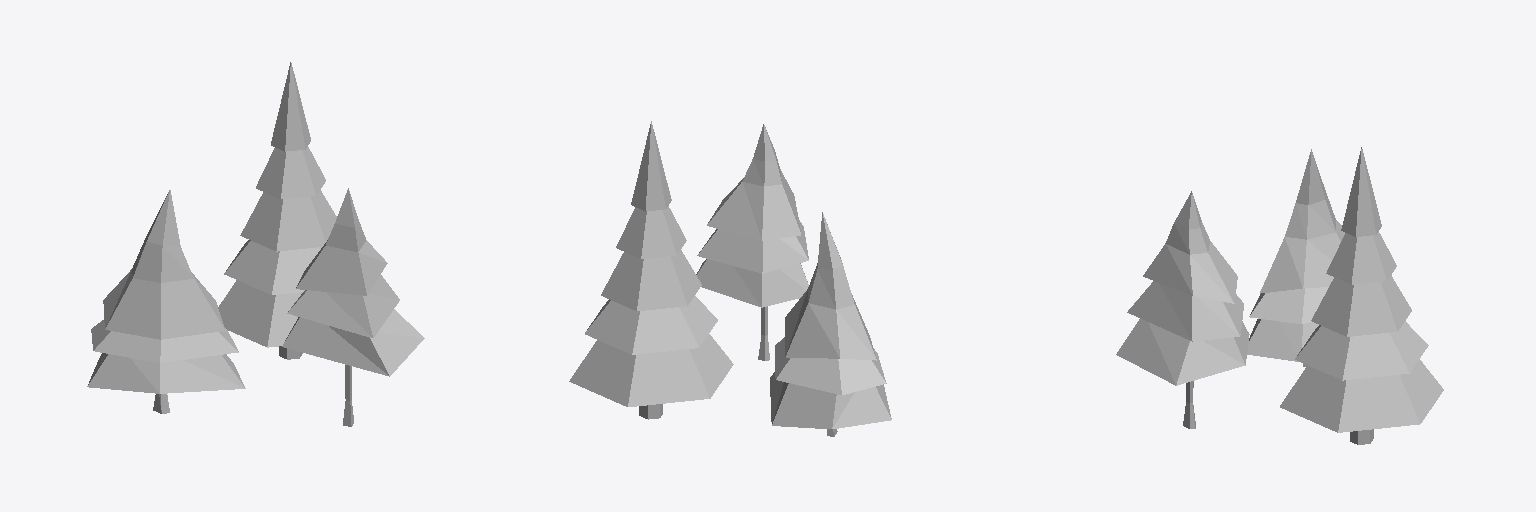
Rendered from trees.obj.
The picture shows the model from 3 angles: view 1: azimuth 30°, elevation 25°; view 2: azimuth 150°, elevation 25°; view 3: azimuth 270°, elevation 25°; orthographic projection.
Parts seen in each view (by area): view 1: 001_Merged_Objects_1, 000_Merged_Objects, 002_Merged_Objects_2; view 2: 000_Merged_Objects, 001_Merged_Objects_1, 002_Merged_Objects_2; view 3: 000_Merged_Objects, 002_Merged_Objects_2, 001_Merged_Objects_1.
Boxes of the visible parts, box(x1,y1,x2,y2) form: 001_Merged_Objects_1: box(87, 190, 245, 413); 000_Merged_Objects: box(218, 62, 336, 359); 002_Merged_Objects_2: box(282, 188, 424, 426); 000_Merged_Objects: box(569, 121, 733, 419); 001_Merged_Objects_1: box(770, 212, 891, 436); 002_Merged_Objects_2: box(696, 124, 808, 360); 000_Merged_Objects: box(1280, 147, 1443, 444); 002_Merged_Objects_2: box(1116, 191, 1249, 428); 001_Merged_Objects_1: box(1247, 149, 1344, 366).
Bounding box in the file's own units: 132 × 127 × 128.